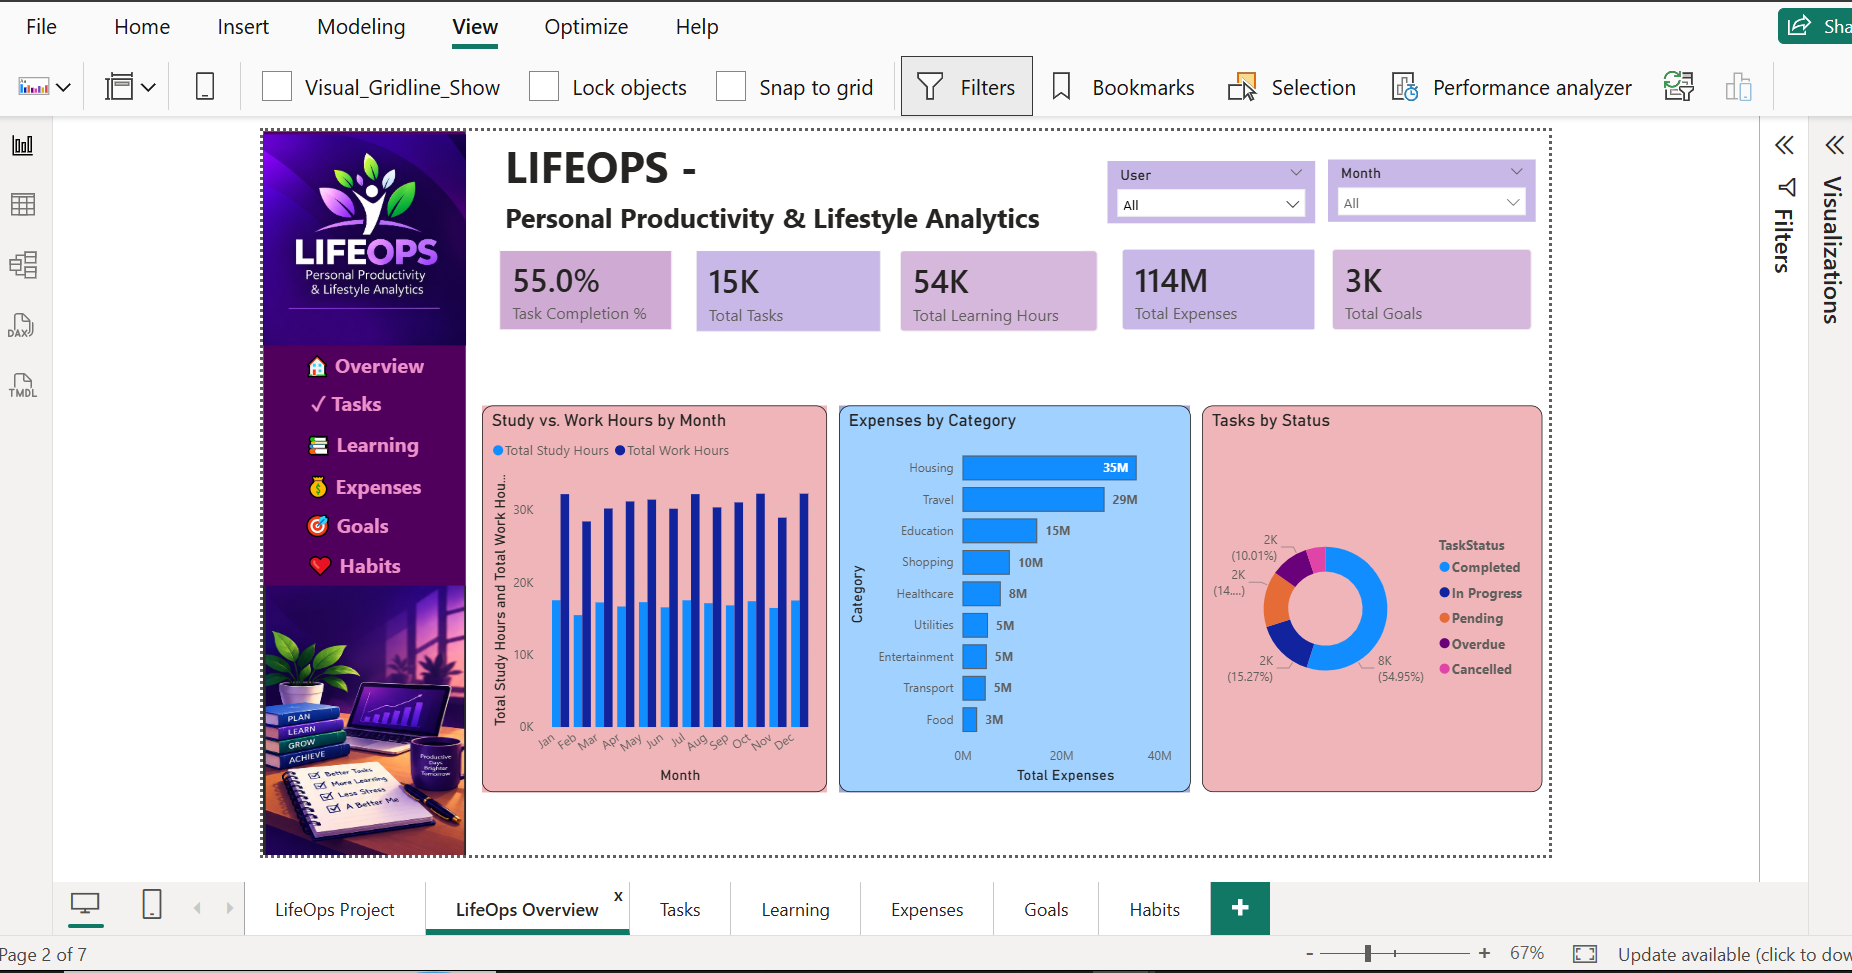

What the dashboard file says about the page in this screenshot:
{"tool":"powerbi","page":{"name":"LifeOps Overview","canvas":[1280,720],"ordinal":1},"visuals":[{"type":"cardVisual","fields":{"Data":["Tasks1.Task Completion %"]},"box":[218.3,100,206.7,115],"z":0},{"type":"clusteredColumnChart","title":"Study vs. Work Hours by Month","fields":{"Category":["Date.Month"],"Y":["DailyActivity.Total Study Hours","DailyActivity.Total Work Hours"]},"box":[217.9,273.6,343.6,384.9],"z":0,"group":"g1"},{"type":"clusteredBarChart","title":"Expenses by Category","fields":{"Category":["Expenses.Category"],"Y":["Expenses.Total Expenses"]},"box":[572.6,273.6,349.9,384.9],"z":0,"group":"g2"},{"type":"donutChart","title":"Tasks by Status","fields":{"Category":["Tasks1.TaskStatus"],"Y":["Tasks1.Total Tasks"]},"box":[933.7,273.6,338.8,384.9],"z":0,"group":"g3"},{"type":"cardVisual","fields":{"Data":["Tasks1.Total Tasks"]},"box":[413.3,101.7,218.3,115],"z":1000},{"type":"cardVisual","fields":{"Data":["Learning_fixed.Total Learning Hours"]},"box":[616.7,101.7,231.7,115],"z":2000},{"type":"cardVisual","fields":{"Data":["Expenses.Total Expenses"]},"box":[836.7,100,228.3,115],"z":3000},{"type":"textbox","box":[235.4,0,579,119.3],"z":4000},{"type":"cardVisual","fields":{"Data":["Goals.Total Goals"]},"box":[1046.7,100,233.3,115],"z":5000},{"type":"group","id":"g1","title":"Group 1","box":[217.9,273.6,343.6,384.9],"z":6000},{"type":"group","id":"g2","title":"Group 2","box":[572.6,273.6,349.9,384.9],"z":7000},{"type":"group","id":"g3","title":"Group 3","box":[933.7,273.6,338.8,384.9],"z":8000},{"type":"shape","box":[0,0,202,720.5],"z":9000},{"type":"actionButton","box":[0,214.7,202,36.6],"z":10000},{"type":"actionButton","box":[0,251.3,165.4,39.8],"z":11000},{"type":"actionButton","box":[33.4,291.1,132,39.8],"z":12000},{"type":"actionButton","box":[33.4,332.4,135.2,39.8],"z":13000},{"type":"actionButton","box":[0,372.2,165.4,39.8],"z":14000},{"type":"actionButton","box":[33.4,412,114.5,39.8],"z":15000},{"type":"slicer","fields":{"Values":["Users.UserID"]},"box":[839.8,30.2,206.8,62],"z":16000},{"type":"slicer","fields":{"Values":["Expenses.Month"]},"box":[1059.3,28.6,206.8,62],"z":17000},{"type":"image","box":[0,0,202,216.3],"z":17001},{"type":"image","box":[0,451.7,202,268.8],"z":17002}]}

Visuals, with their boxes on the page's 1280x720 design canvas (x1, y1, x2, y2). These are canvas units, not pixel positions in the 1852x973 screenshot, which may show the page scaled, cropped or inside an application window:
cardVisual - Tasks1.Task Completion %: crop(218, 100, 425, 215)
"Study vs. Work Hours by Month" clusteredColumnChart: crop(218, 274, 562, 658)
"Expenses by Category" clusteredBarChart: crop(573, 274, 922, 658)
"Tasks by Status" donutChart: crop(934, 274, 1272, 658)
cardVisual - Tasks1.Total Tasks: crop(413, 102, 632, 217)
cardVisual - Learning_fixed.Total Learning Hours: crop(617, 102, 848, 217)
cardVisual - Expenses.Total Expenses: crop(837, 100, 1065, 215)
textbox: crop(235, 0, 814, 119)
cardVisual - Goals.Total Goals: crop(1047, 100, 1280, 215)
"Group 1" group: crop(218, 274, 562, 658)
"Group 2" group: crop(573, 274, 922, 658)
"Group 3" group: crop(934, 274, 1272, 658)
shape: crop(0, 0, 202, 720)
actionButton: crop(0, 215, 202, 251)
actionButton: crop(0, 251, 165, 291)
actionButton: crop(33, 291, 165, 331)
actionButton: crop(33, 332, 169, 372)
actionButton: crop(0, 372, 165, 412)
actionButton: crop(33, 412, 148, 452)
slicer - Users.UserID: crop(840, 30, 1047, 92)
slicer - Expenses.Month: crop(1059, 29, 1266, 91)
image: crop(0, 0, 202, 216)
image: crop(0, 452, 202, 720)
